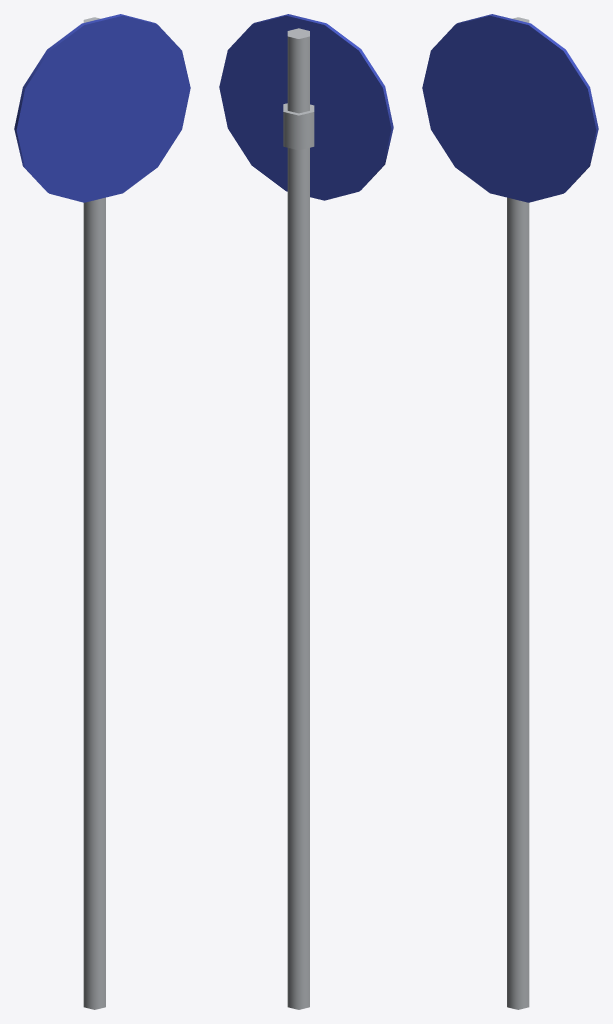
Rendered from SM_trafficsign_05.fbx.
The picture shows the model from 3 angles, left to right: view 1: azimuth 30°, elevation 25°; view 2: azimuth 150°, elevation 25°; view 3: azimuth 330°, elevation 25°; orthographic projection.
Visible parts, largest first — view 1: Cylinder039; view 2: Cylinder039; view 3: Cylinder039.
Part boxes in pixels (x1,y1,x2,y2): Cylinder039: [14, 14, 190, 1009]; Cylinder039: [219, 14, 393, 1009]; Cylinder039: [422, 14, 598, 1009].
Bounding box in the file's own units: 22.84 × 3.8 × 124.
